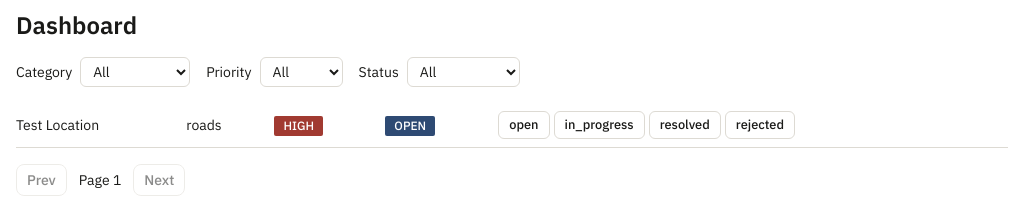
Dashboard view › updates the row in place on a legal transition (200)
This screenshot has width=1025, height=213.
Check: the cell with test id "status" reads "open", box [394,118,426,132]
Click the button "in_progress". click: (599, 125)
box: [554,111,645,139]
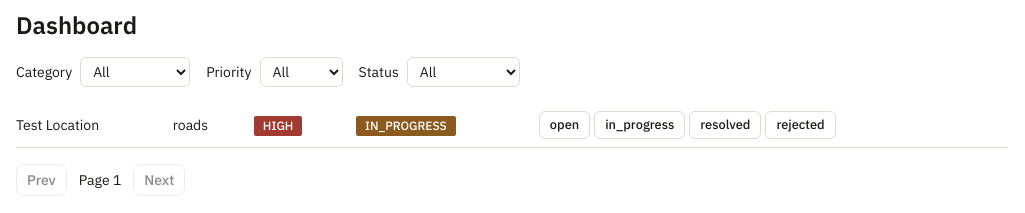
Check: the cell with test id "status" reads "in_progress", box [365,118,447,132]
